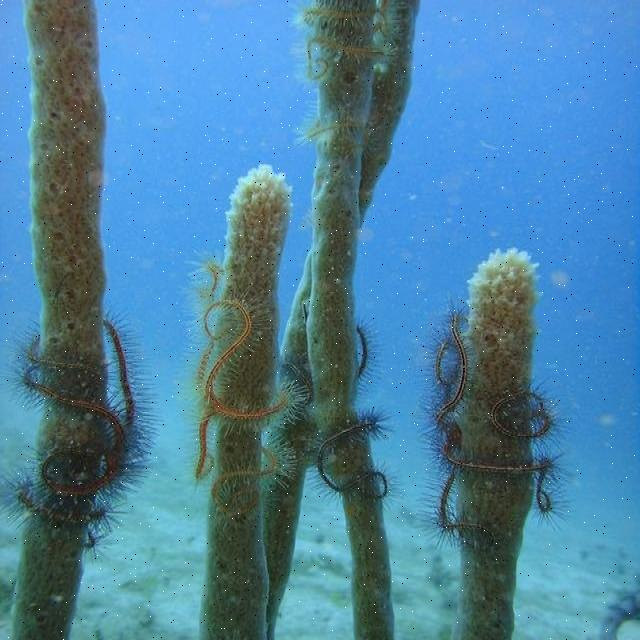aquatic plants: (261, 0, 420, 639), (10, 0, 135, 639), (435, 247, 554, 639), (195, 161, 291, 638)
